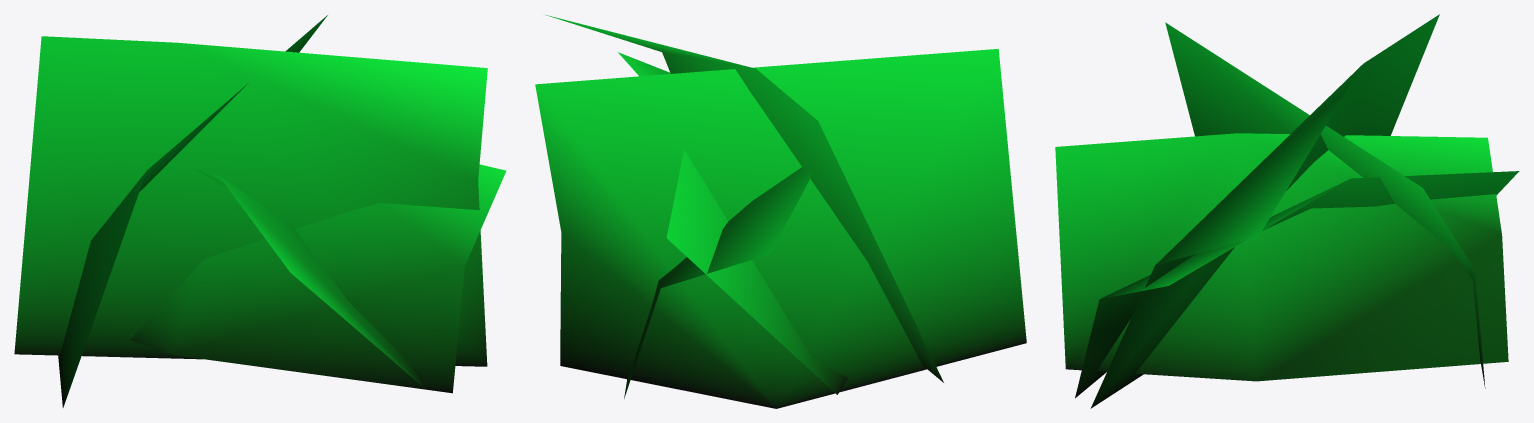
File: SM_GrassLowPoly.fbx
3 views of the same model, side by side, from view 1: azimuth 30°, elevation 25°; view 2: azimuth 150°, elevation 25°; view 3: azimuth 270°, elevation 25° (orthographic). The views are drawn at different scales.
Visible parts, largest first — view 1: Grass; view 2: Grass; view 3: Grass.
Boxes of the visible parts, <box> form: Grass: <box>14,15,506,407</box>; Grass: <box>535,15,1026,408</box>; Grass: <box>1055,14,1519,408</box>.
Bounding box in the file's own units: 115 × 68.64 × 105.
